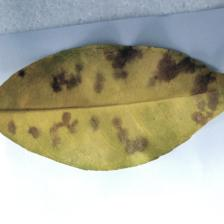black spot: (37, 60, 224, 142)
